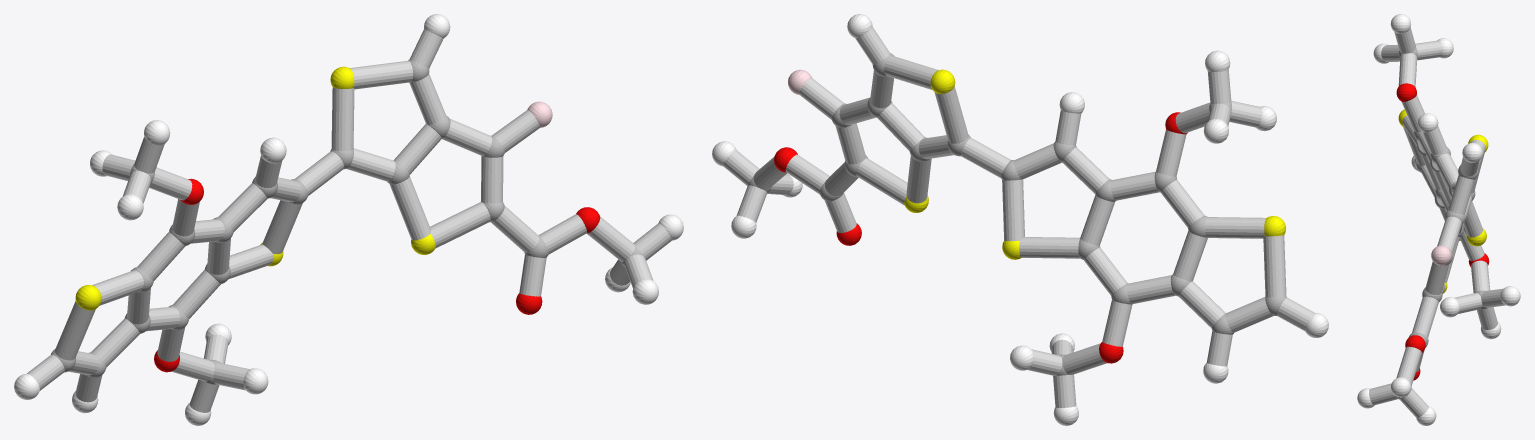
Rendered from Dimethoxy_Benzodithiophene_Phi_10_Theta_320_Methylcarbonyl_3_Fluoro_Thienothiophene.glb.
3 views of the same model, side by side, from view 1: azimuth 30°, elevation 25°; view 2: azimuth 150°, elevation 25°; view 3: azimuth 270°, elevation 25° (orthographic). The views are drawn at different scales.
Visible parts, largest first — view 1: grp15205, grp8689, grp1, grp7241, grp13395; view 2: grp15205, grp8689, grp1, grp7241, grp13395; view 3: grp15205, grp8689, grp1, grp13395, grp7241, grp14843.
Boxes of the visible parts, x1,y1,x2,y2 form: grp15205: (27,29,671,412); grp8689: (14,14,683,425); grp1: (51,59,643,384); grp7241: (75,66,435,310); grp13395: (154,178,600,372); grp15205: (723,27,1314,407); grp8689: (712,14,1328,425); grp1: (748,53,1286,375); grp7241: (904,69,1285,259); grp13395: (774,112,1187,363); grp15205: (1369,27,1505,417); grp8689: (1357,14,1520,425); grp1: (1395,47,1487,399); grp13395: (1396,83,1489,380); grp7241: (1398,109,1488,293); grp14843: (1431,245,1451,265).
Bounding box in the file's own units: 17.11 × 9.27 × 4.8.
